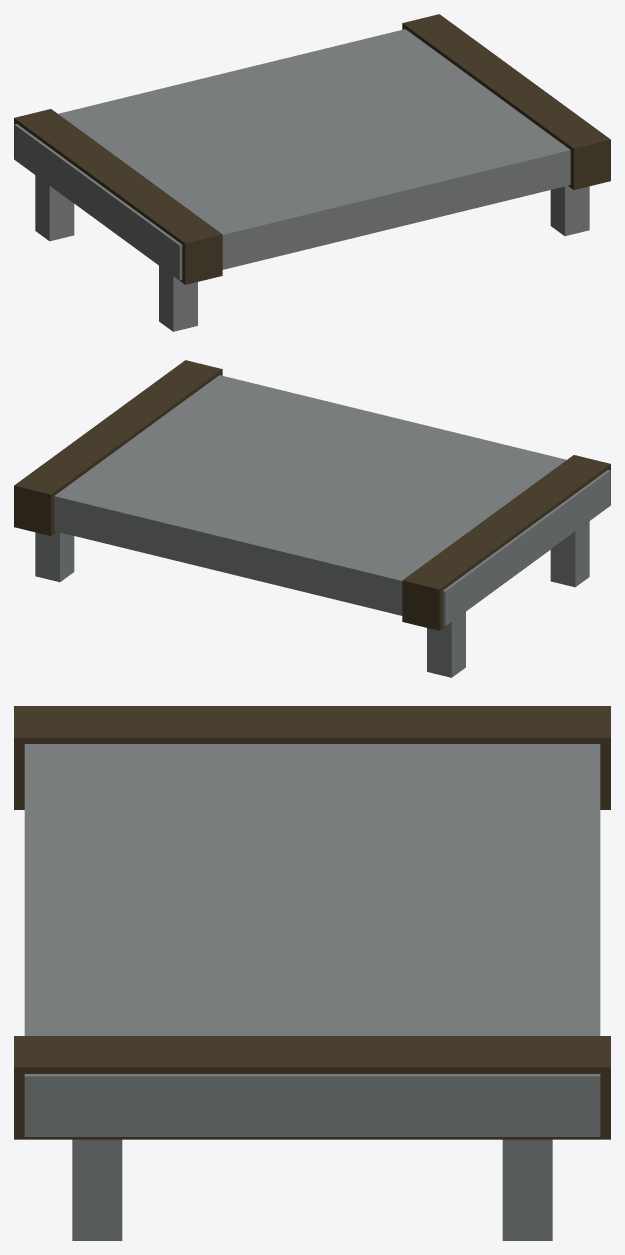
Rendered from Lab_Table.fbx.
The picture shows the model from 3 angles, top to bottom: view 1: azimuth 30°, elevation 25°; view 2: azimuth 150°, elevation 25°; view 3: azimuth 270°, elevation 25°; orthographic projection. The views are drawn at different scales.
Parts seen in each view (by area): view 1: Table_Top, Table_Ends, Table_Legs; view 2: Table_Top, Table_Ends, Table_Legs; view 3: Table_Top, Table_Ends, Table_Legs.
Part boxes in pixels (x1=…): Table_Top: x1=14, y1=29, x2=570, y2=280; Table_Ends: x1=14, y1=14, x2=610, y2=284; Table_Legs: x1=35, y1=175, x2=589, y2=331; Table_Top: x1=54, y1=375, x2=610, y2=626; Table_Ends: x1=14, y1=360, x2=610, y2=630; Table_Legs: x1=35, y1=521, x2=589, y2=677; Table_Top: x1=24, y1=744, x2=600, y2=1136; Table_Ends: x1=14, y1=706, x2=610, y2=1139; Table_Legs: x1=72, y1=1139, x2=552, y2=1240.
Size of the model in its own units: 295 by 66.66 by 203.
